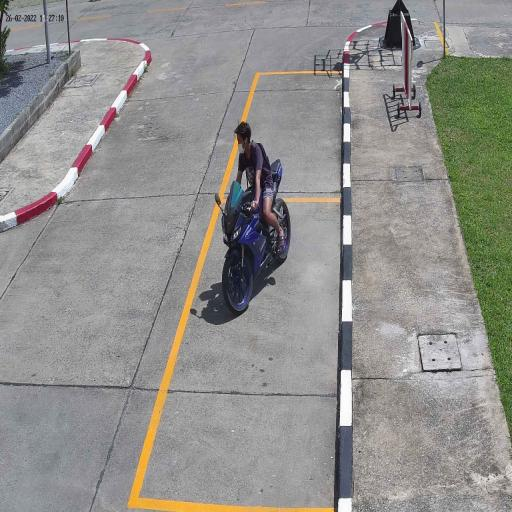motorcycle: (220, 181, 294, 318)
